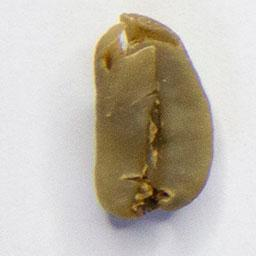defect: (89, 9, 217, 222)
